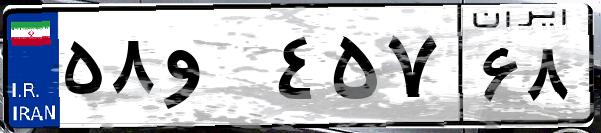4: (270, 28, 330, 110)
5: (330, 28, 385, 110), (57, 26, 110, 100)
6: (475, 38, 525, 113)
7: (385, 28, 445, 110)
8: (525, 38, 570, 115), (110, 28, 158, 98)
و: (158, 20, 270, 120)
